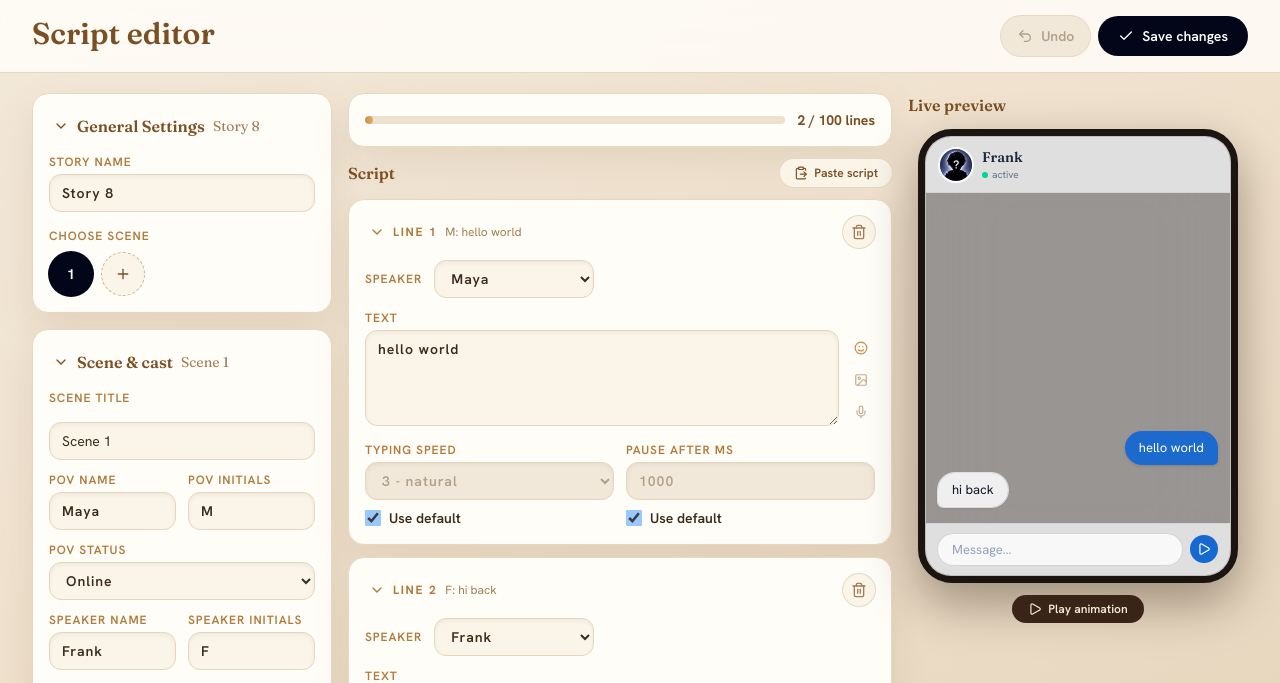
ScriptEditor preview + paste › can replace the whole script from a pasted block
Click the button with aria-label "Paste a script" at (836, 173), box [780,159,892,187]
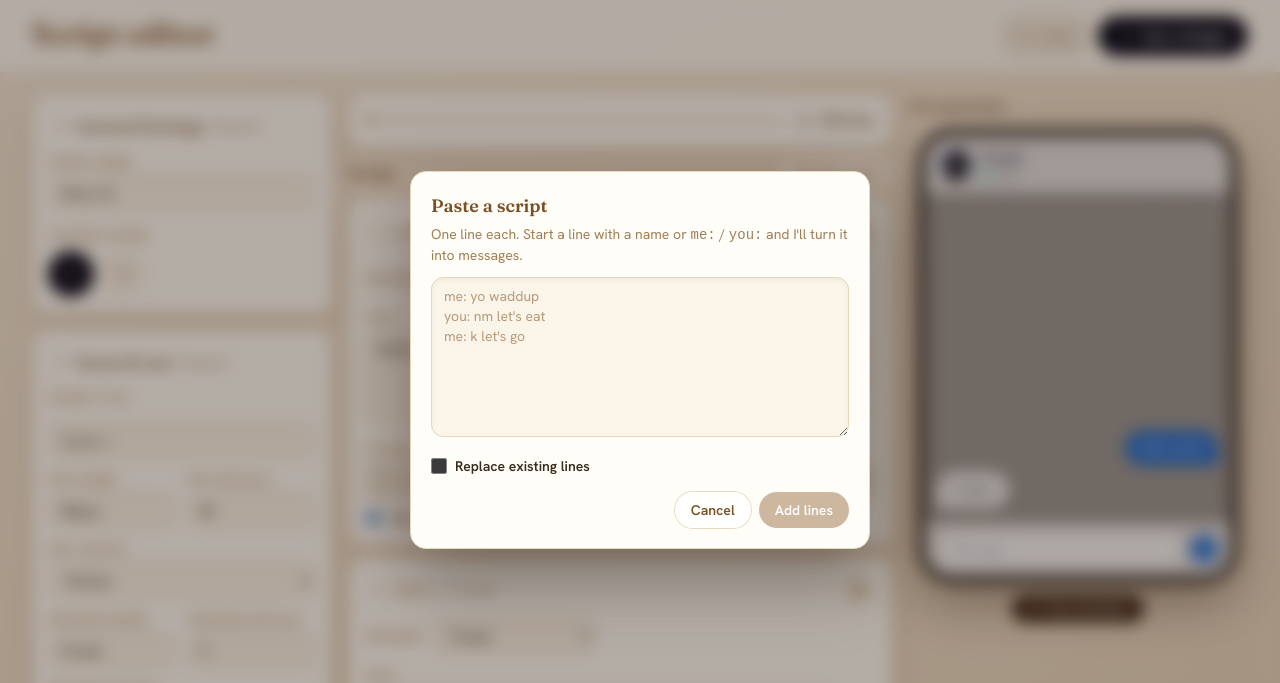
Type "me: fresh start" into the text box named "Script text" at (640, 357), box [431,277,849,437]
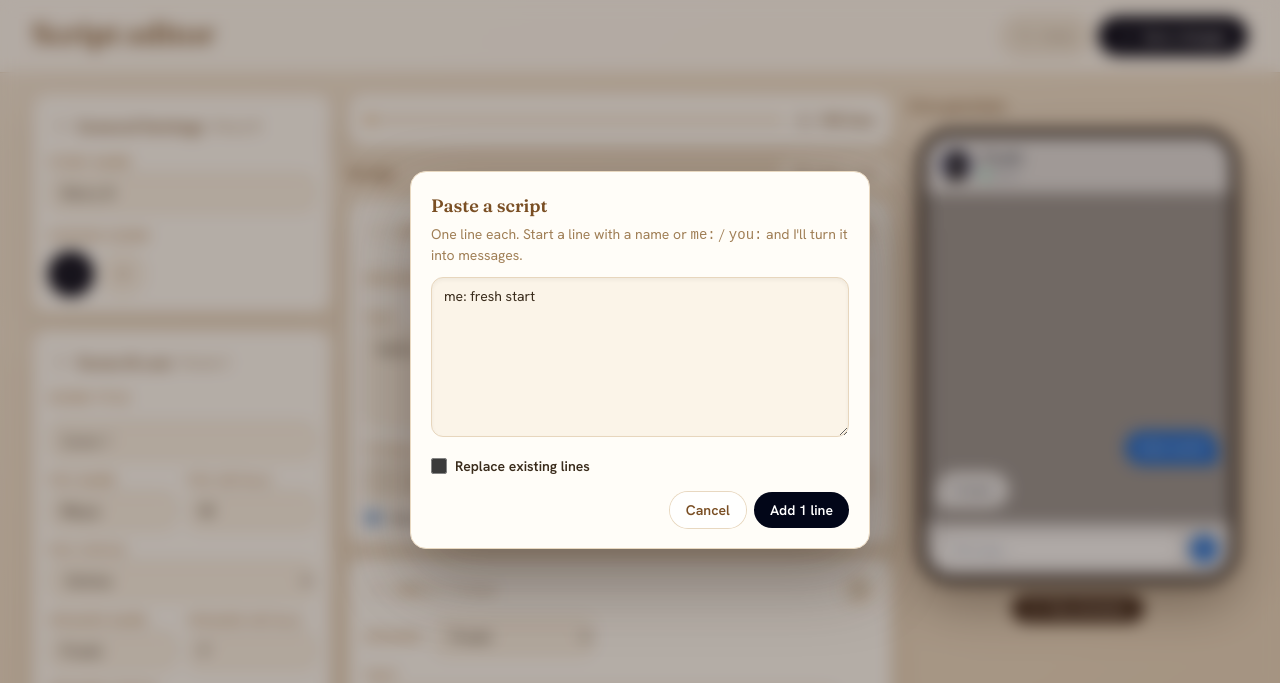
Click the checkbox labelled "Replace existing lines" at (439, 466), box [431,458,447,474]
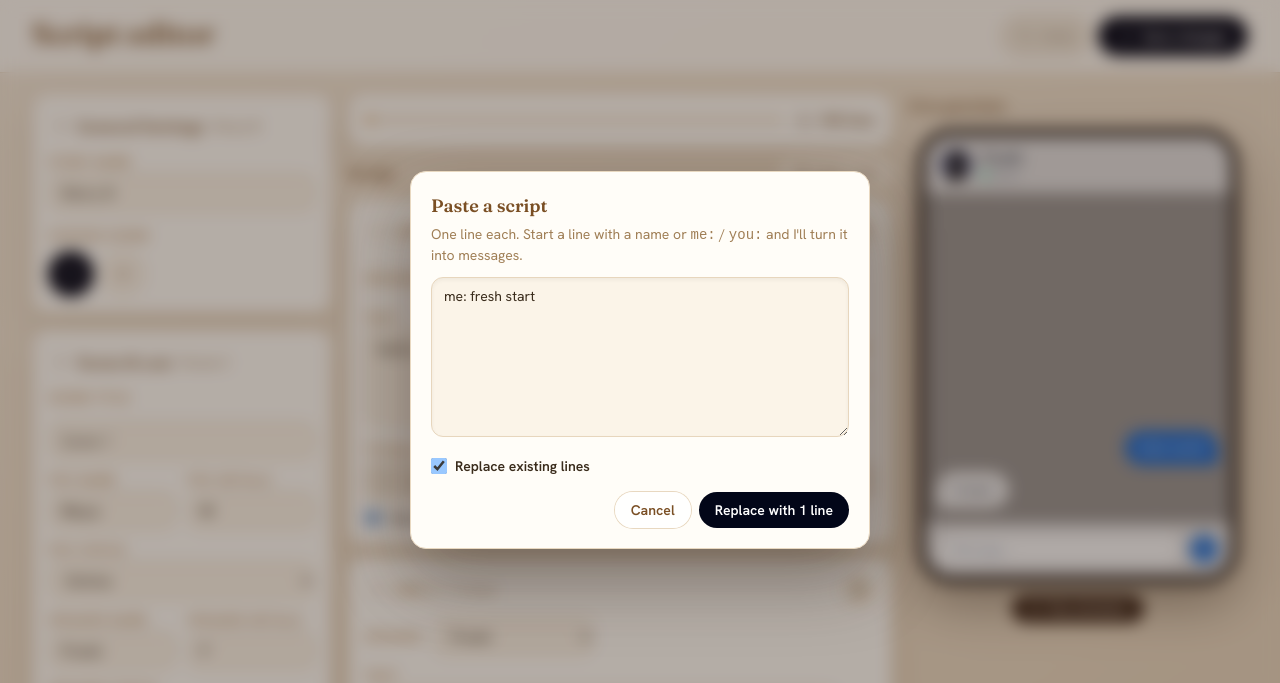
Click the button with aria-label "Add pasted lines" at (774, 510), box [699,492,849,528]
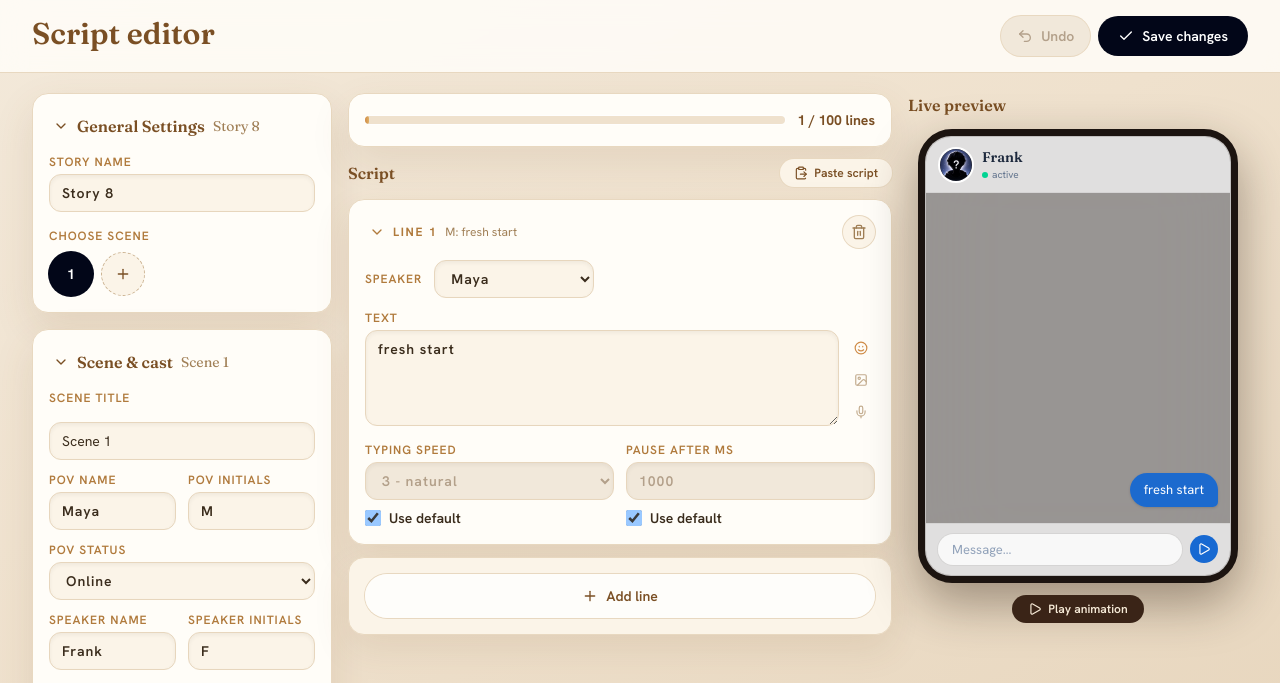
Expected: the text "fresh start" is shown, [1130,473,1218,506]
Expected: the button "hello world" is gone
